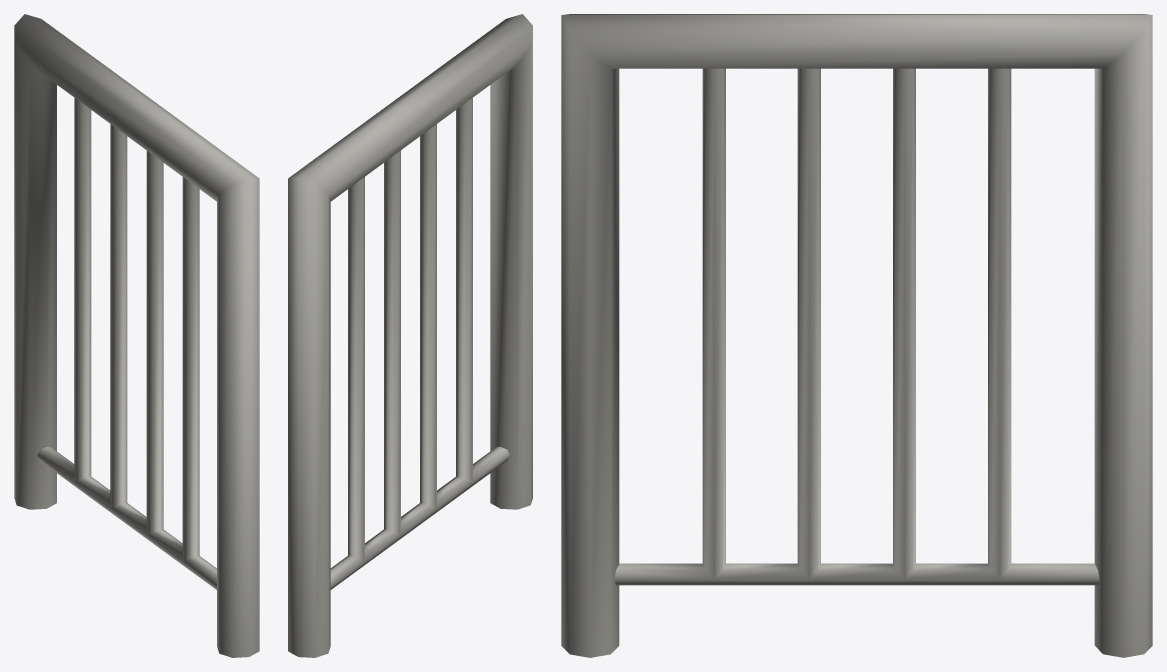
The model's file is Guard_01_04.FBX.
3 views of the same model, side by side, from view 1: azimuth 30°, elevation 25°; view 2: azimuth 150°, elevation 25°; view 3: azimuth 270°, elevation 25° (orthographic). The views are drawn at different scales.
Visible parts, largest first — view 1: Guard_01_04; view 2: Guard_01_04; view 3: Guard_01_04.
Boxes of the visible parts, x1=… form: Guard_01_04: x1=14, y1=14, x2=259, y2=657; Guard_01_04: x1=288, y1=14, x2=532, y2=657; Guard_01_04: x1=561, y1=14, x2=1152, y2=657.
Size of the model in its own units: 0.1003 by 1.2 by 1.02.
